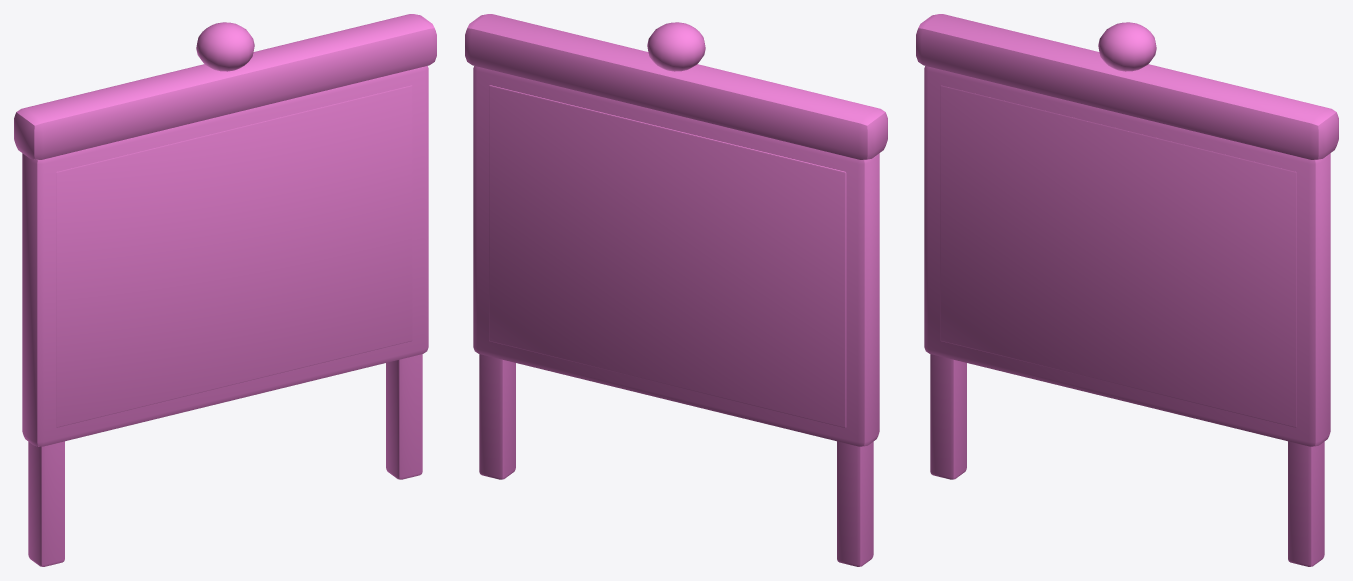
Rendered from Hub_Leaderboard.fbx.
3 views of the same model, side by side, from view 1: azimuth 30°, elevation 25°; view 2: azimuth 150°, elevation 25°; view 3: azimuth 330°, elevation 25° (orthographic).
Parts seen in each view (by area): view 1: Leaderboard; view 2: Leaderboard; view 3: Leaderboard.
Boxes of the visible parts, bbox=[...] form: Leaderboard: bbox=[14, 14, 436, 566]; Leaderboard: bbox=[465, 14, 887, 566]; Leaderboard: bbox=[916, 14, 1338, 566].
Size of the model in its own units: 16 by 18.4 by 2.
1 material, 1 textured.
